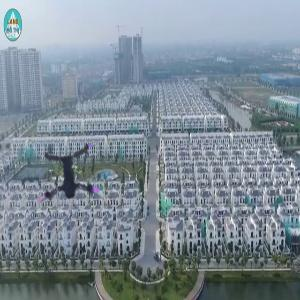drone: (30, 144, 113, 227)
